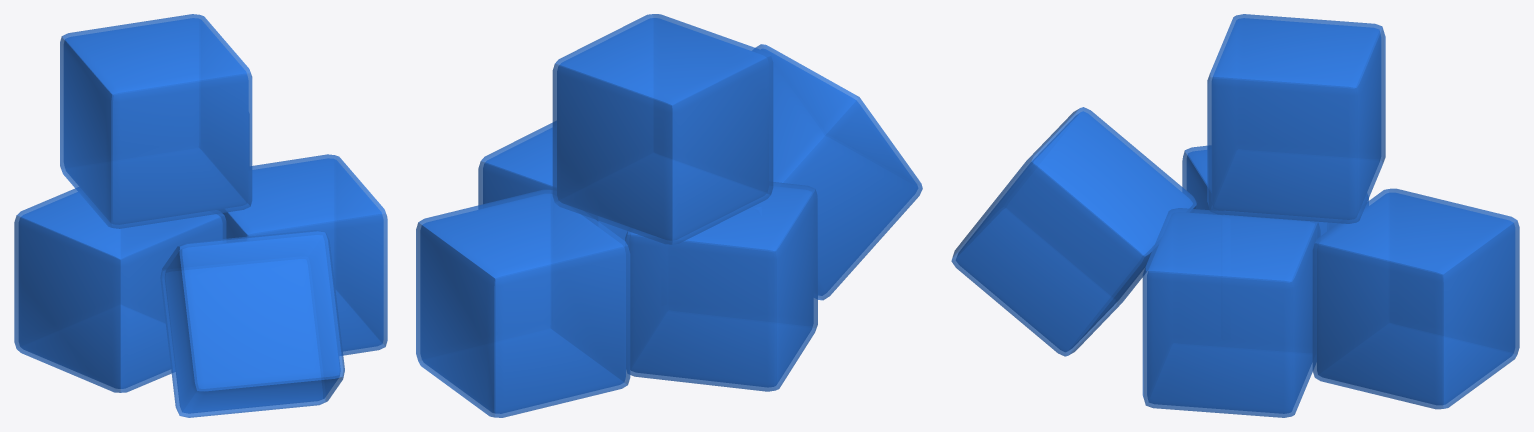
The model's file is IceCubes_4.FBX.
3 views of the same model, side by side, from view 1: azimuth 30°, elevation 25°; view 2: azimuth 150°, elevation 25°; view 3: azimuth 270°, elevation 25° (orthographic). The views are drawn at different scales.
Visible parts, largest first — view 1: IceCubes_2; view 2: IceCubes_2; view 3: IceCubes_2.
Part boxes in pixels (left/top/right/bottom): IceCubes_2: left=14, top=14, right=387, bottom=417; IceCubes_2: left=416, top=14, right=922, bottom=417; IceCubes_2: left=951, top=14, right=1519, bottom=417.
Bounding box in the file's own units: 29.37 × 26.24 × 46.89.
